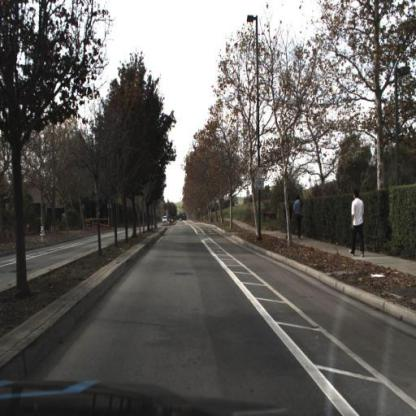pedestrian: (350, 189, 367, 261), (291, 193, 305, 244), (284, 195, 294, 238)
